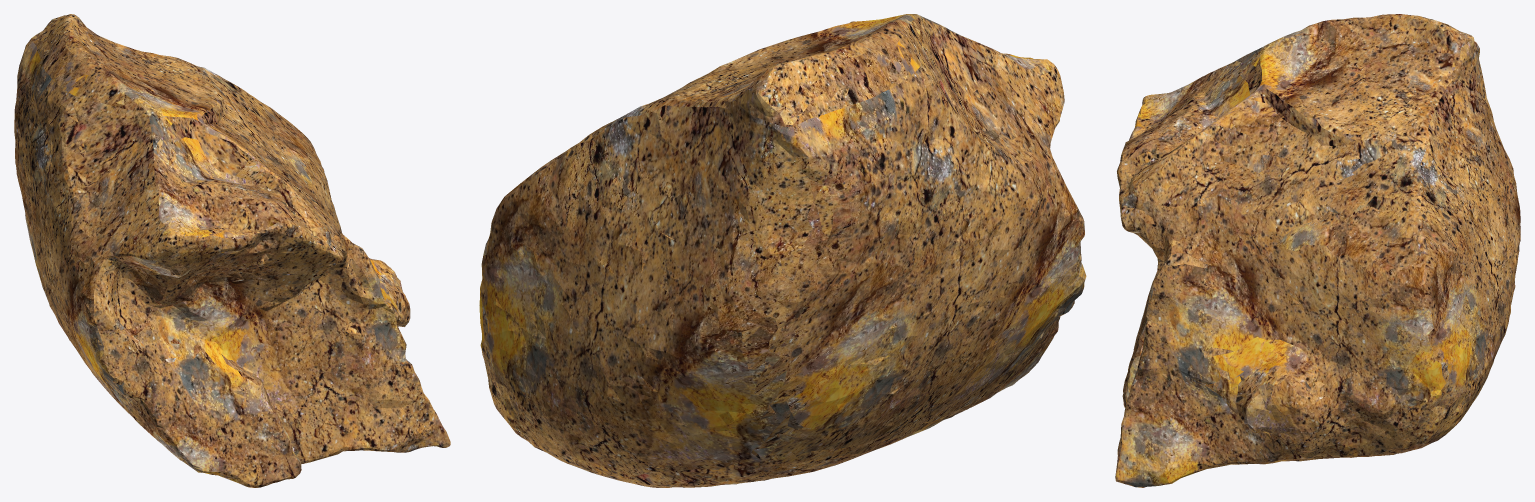
Rendered from GAL_Rock-1.glb.
The picture shows the model from 3 angles, left to right: view 1: azimuth 30°, elevation 25°; view 2: azimuth 150°, elevation 25°; view 3: azimuth 270°, elevation 25°; orthographic projection. The views are drawn at different scales.
Parts seen in each view (by area): view 1: tmp04gl6ewv.ply; view 2: tmp04gl6ewv.ply; view 3: tmp04gl6ewv.ply.
Part boxes in pixels (bbox=[...]): tmp04gl6ewv.ply: bbox=[14, 14, 450, 487]; tmp04gl6ewv.ply: bbox=[479, 14, 1086, 487]; tmp04gl6ewv.ply: bbox=[1115, 14, 1520, 487].
Size of the model in its own units: 1.93 by 1.93 by 1.96.
1 material, 1 textured.
